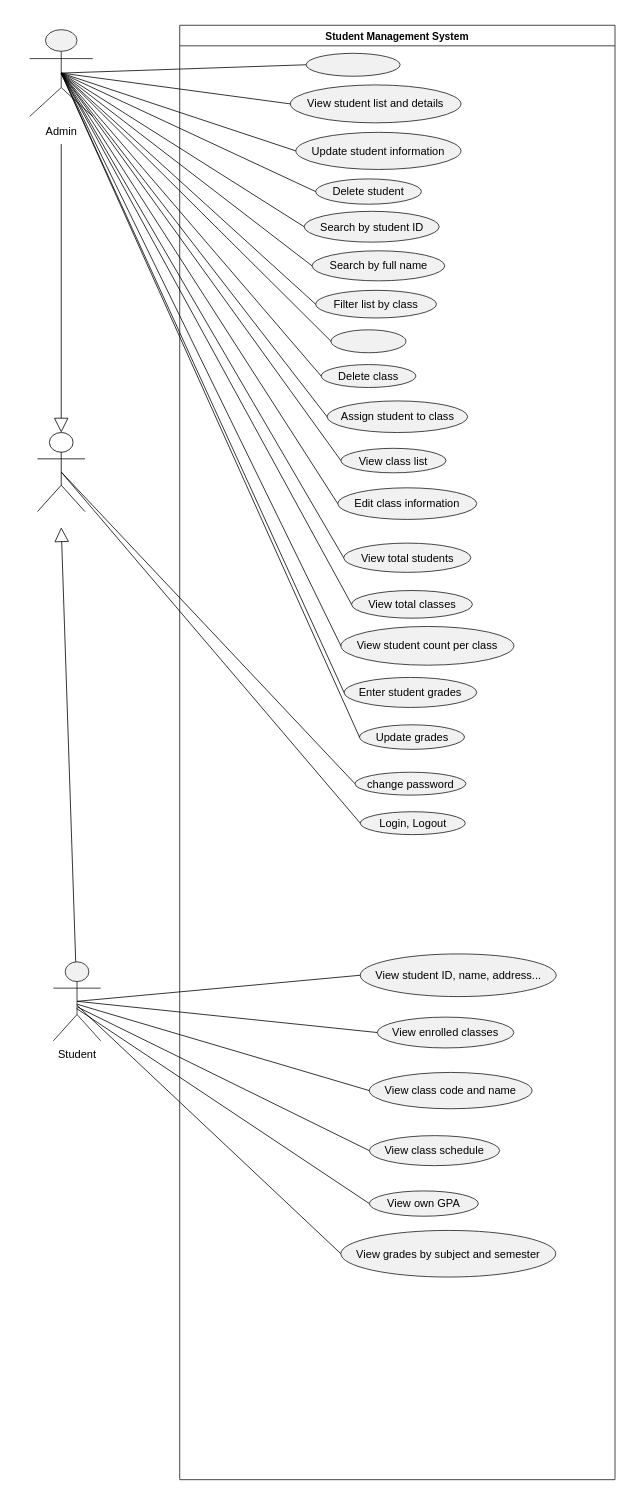
Some shapes in this 629 by 1493 pixel diagram are drawn without their labels. Here are the shapes that lost their labels. From the top down, the centre of each, then its label:
At point (352, 64): "Add student".
At point (368, 341): "Add class".
At point (61, 472): "Actor".
